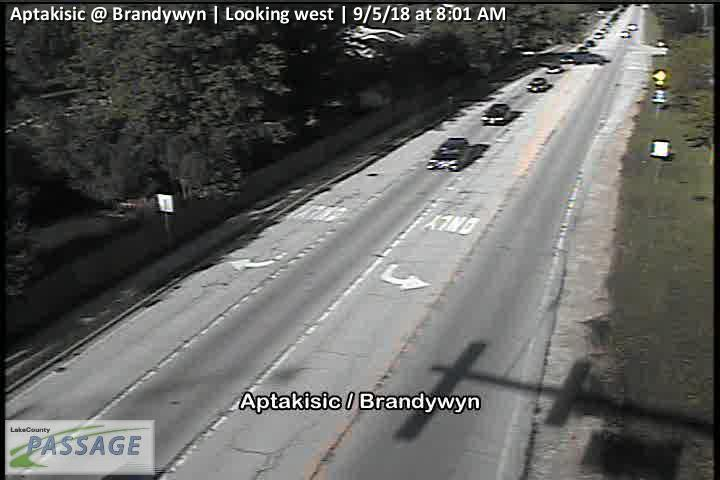Sedan: (427, 137, 470, 171), (482, 104, 511, 123), (526, 77, 553, 92), (544, 62, 564, 74), (619, 30, 631, 38), (584, 39, 594, 47), (627, 23, 638, 30), (593, 32, 604, 38)
